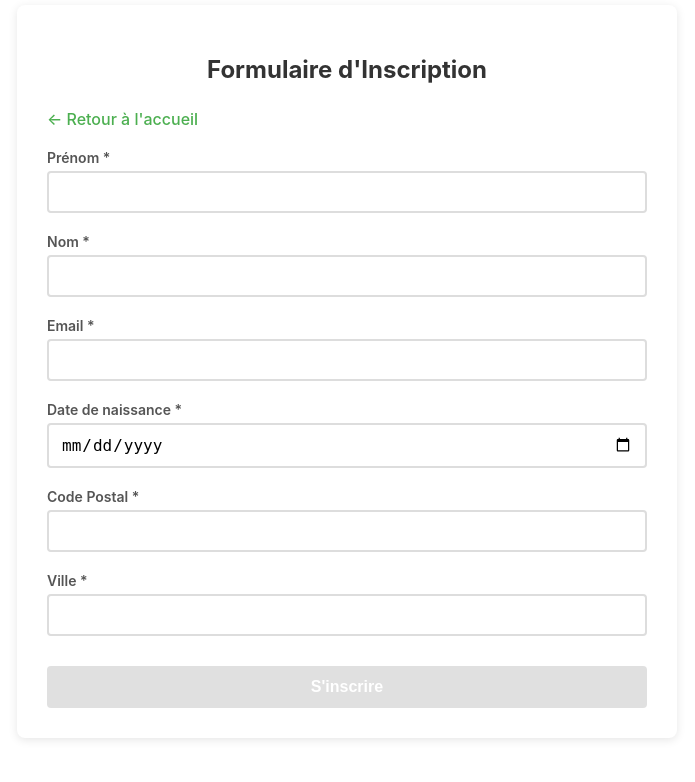
it: RegistrationForm - Integration Tests › should display error message for invalid first name (with numbers)
In the field labelled "Prénom *": (347, 192) [47,171,647,213], type "John123"
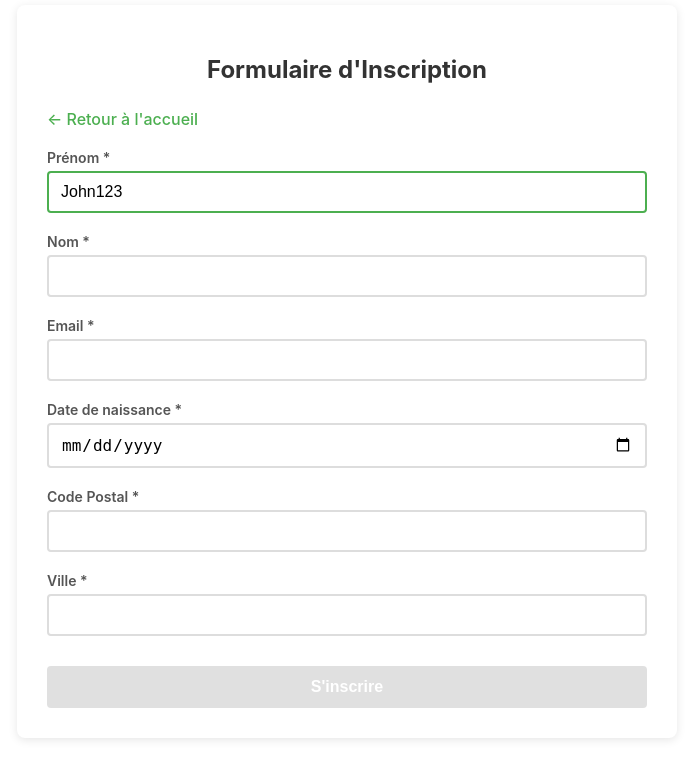
Press Tab
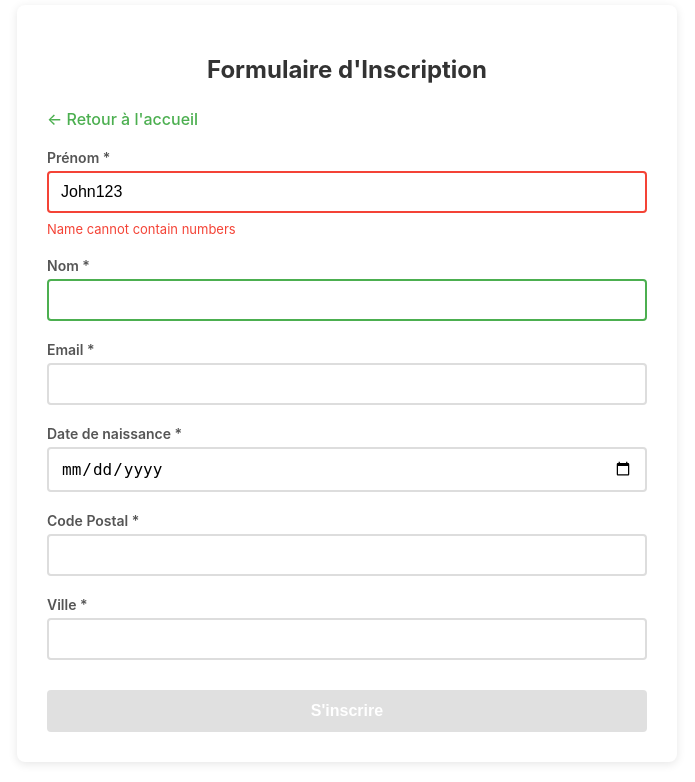
Expected: the text with test id "firstName-error" shows "cannot contain numbers", [47,221,236,237]
